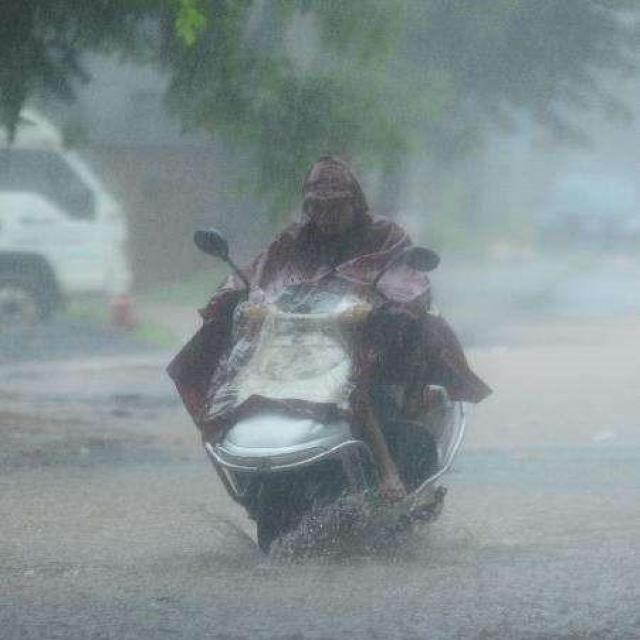car: (1, 102, 125, 326)
